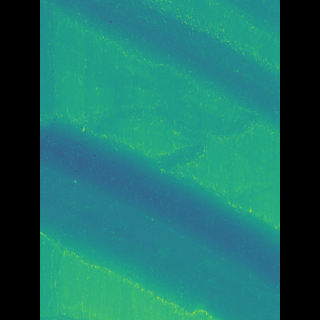Loch: (69, 114, 250, 320), (74, 0, 250, 136)
